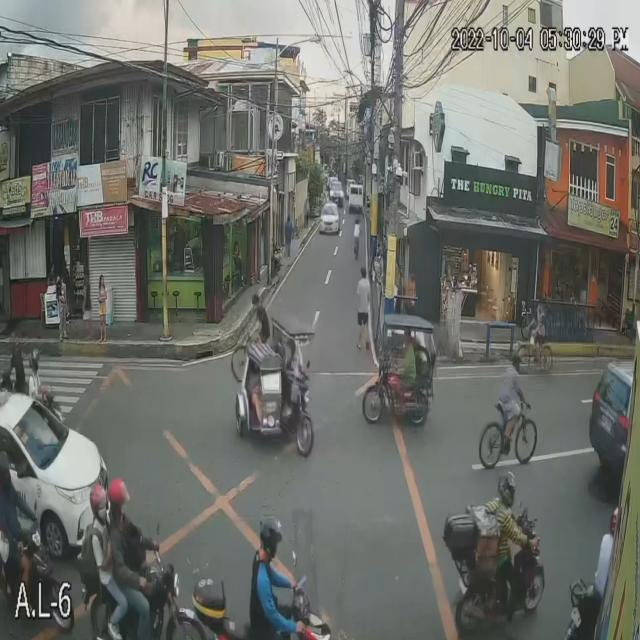full: (498, 472, 518, 510), (0, 451, 13, 490), (30, 350, 40, 374)
half: (260, 513, 282, 557), (108, 477, 130, 521), (88, 484, 106, 524)
